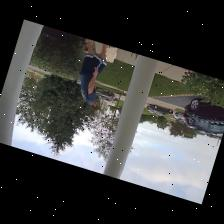person: (79, 39, 112, 109)
